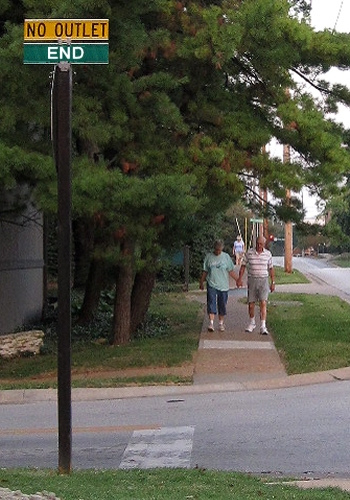Person: (199, 239, 239, 330), (243, 232, 276, 340)
